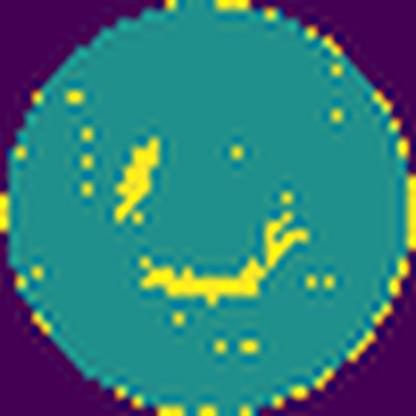Loc: (140, 202, 309, 304), (108, 134, 166, 220)
